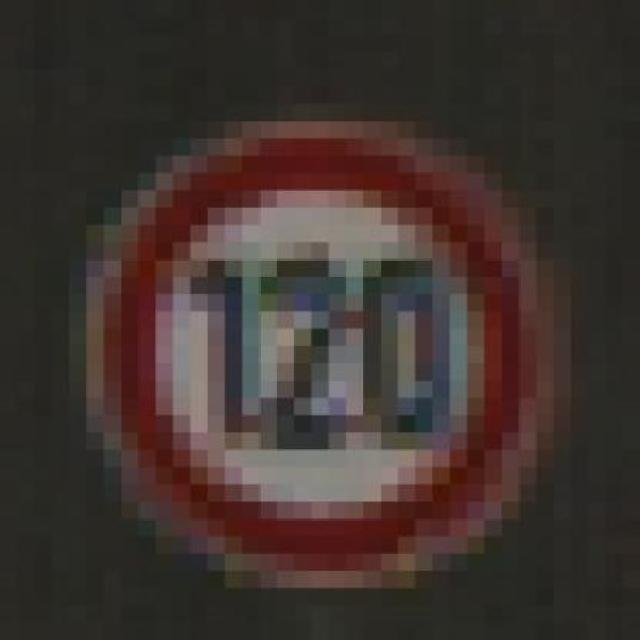forb_speed_over_120: (116, 136, 538, 573)
